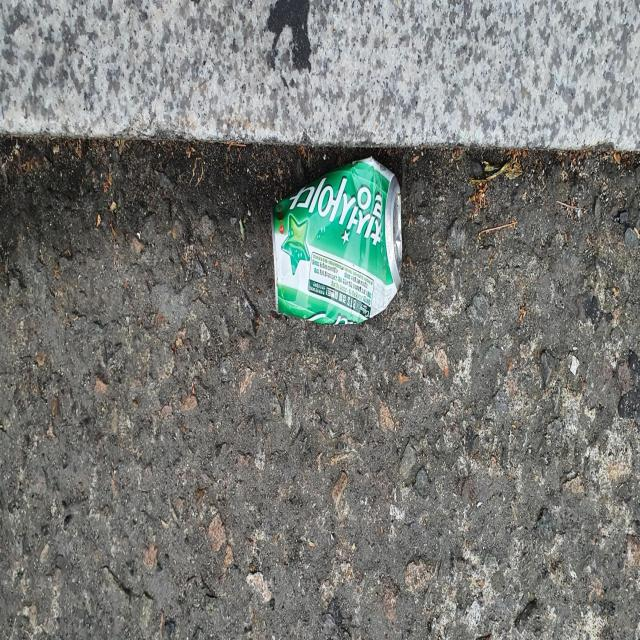can: (271, 155, 402, 323)
